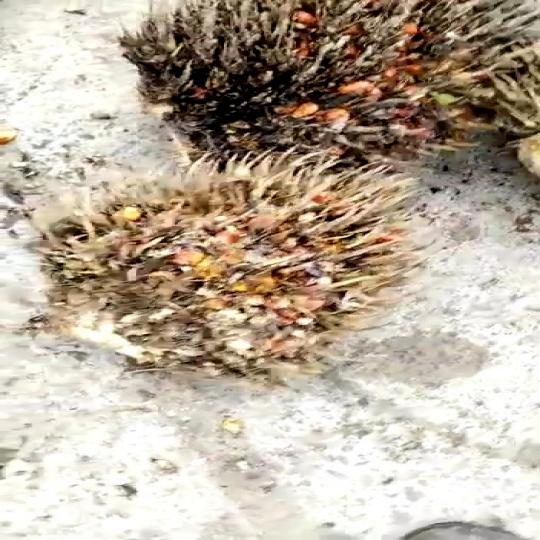terlalu masak: (17, 153, 430, 388), (100, 0, 535, 175)
